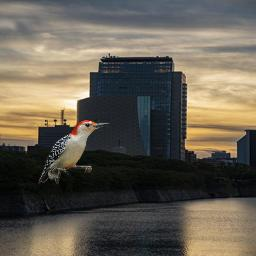Woodpecker: (38, 120, 110, 184)
